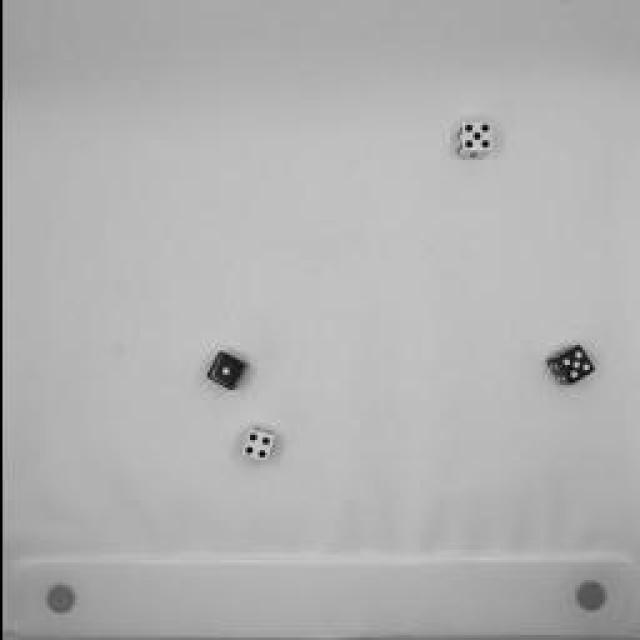dice_1: (200, 345, 250, 393)
dice_4: (230, 422, 280, 468)
dice_5: (540, 340, 598, 390), (449, 114, 496, 166)
